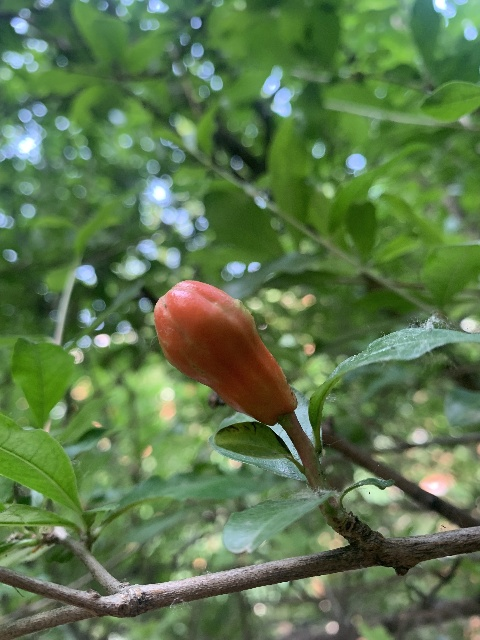bud: (153, 279, 296, 424)
